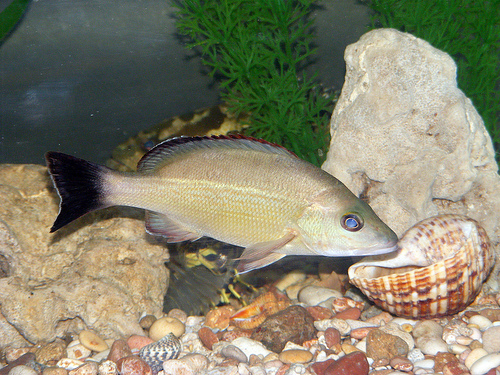fish: (45, 135, 399, 275)
